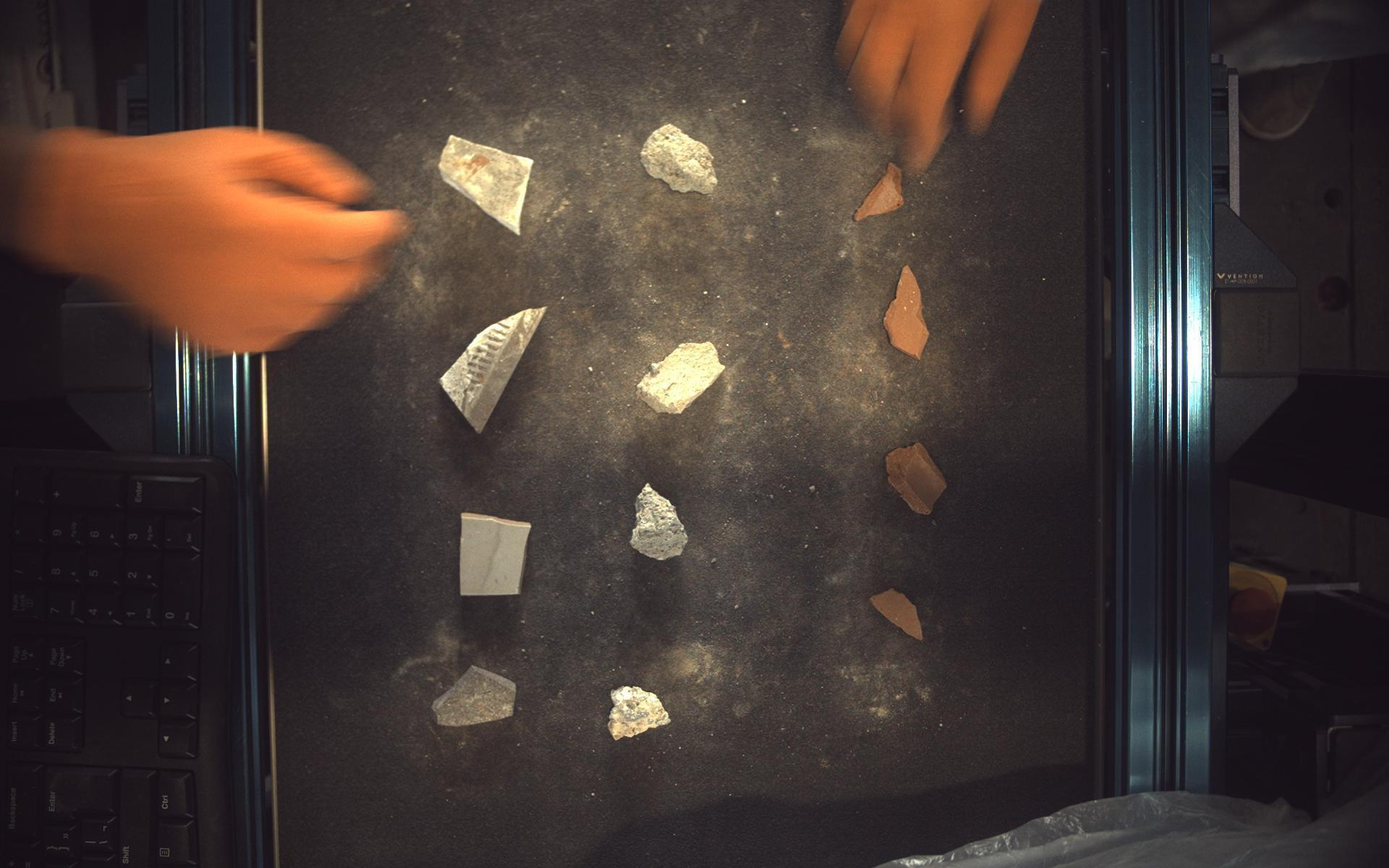brick: (888, 443, 949, 515), (885, 265, 931, 358), (856, 162, 906, 220), (872, 590, 925, 642)
concrete: (638, 341, 726, 414), (642, 123, 719, 194), (632, 484, 689, 561), (609, 687, 671, 742)
tile: (440, 306, 546, 433), (439, 135, 533, 234), (461, 513, 531, 596), (432, 668, 516, 728)
